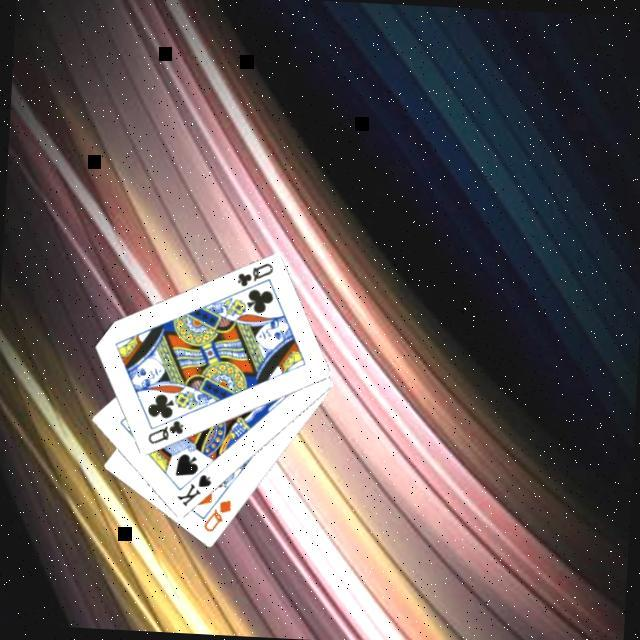KS: (175, 468, 217, 510)
QC: (146, 415, 189, 448), (236, 257, 279, 290)
QD: (202, 493, 237, 535)
